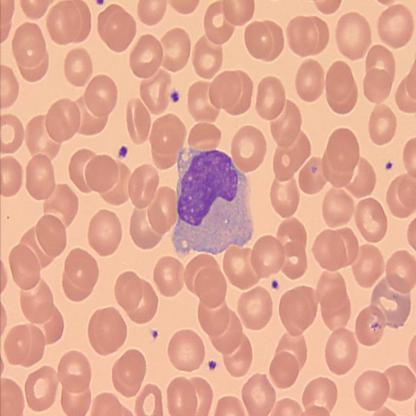Monocyte: (169, 144, 254, 260)
